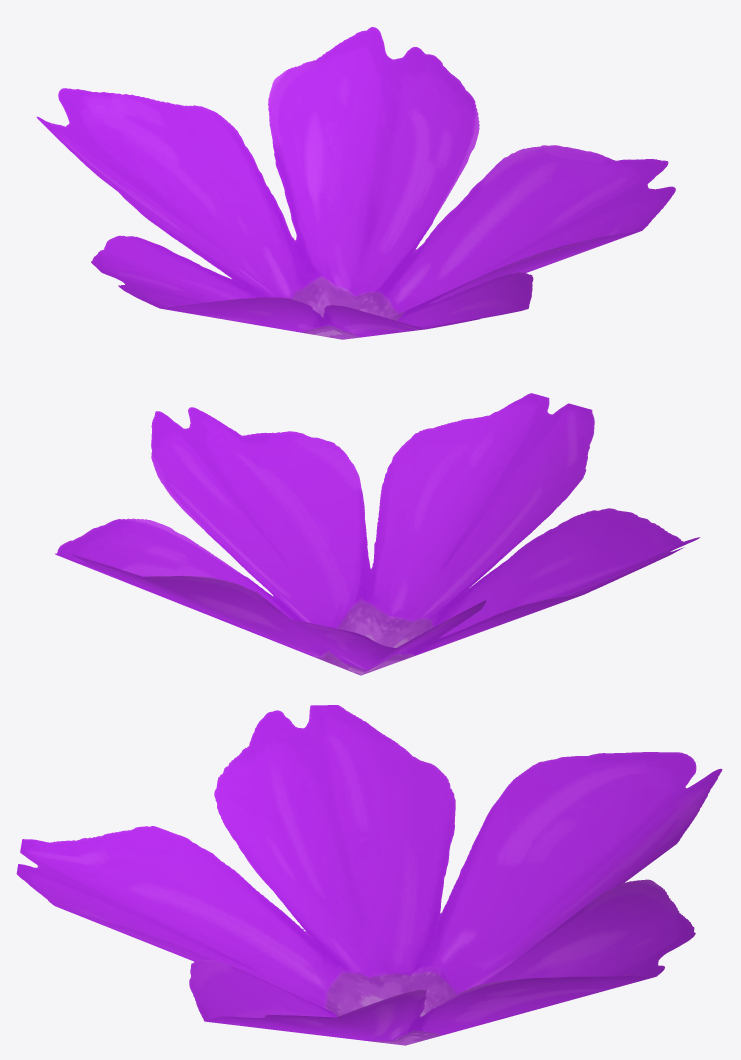
The model's file is PetalPurple_1.obj.
3 renders of one model, top to bottom at view 1: azimuth 30°, elevation 25°; view 2: azimuth 150°, elevation 25°; view 3: azimuth 270°, elevation 25°, orthographic. The views are drawn at different scales.
Parts seen in each view (by area): view 1: PetalPurple_1; view 2: PetalPurple_1; view 3: PetalPurple_1.
Boxes of the visible parts, <box> form: PetalPurple_1: <box>36,27,675,339</box>; PetalPurple_1: <box>55,393,700,675</box>; PetalPurple_1: <box>16,705,722,1045</box>.
Bounding box in the file's own units: 0.6195 × 0.1895 × 0.6064.
Materials: 1 (1 with a texture image).
